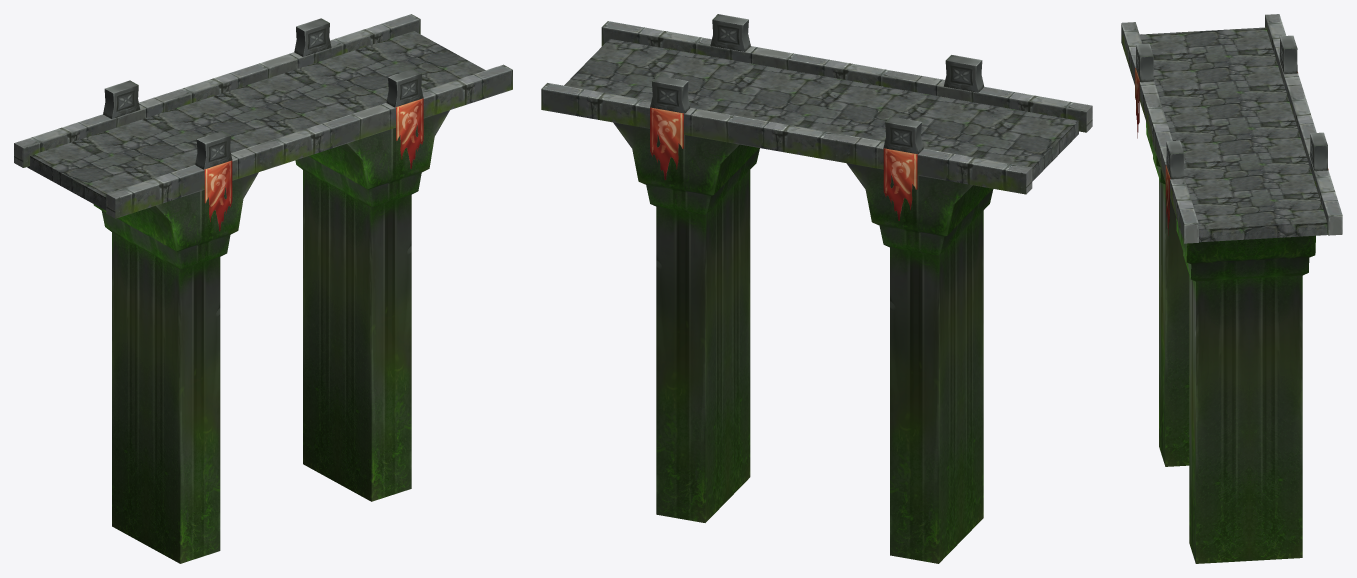
The model's file is SJBoss_Bridge_01.FBX.
The picture shows the model from 3 angles, left to right: view 1: azimuth 30°, elevation 25°; view 2: azimuth 150°, elevation 25°; view 3: azimuth 270°, elevation 25°; orthographic projection. The views are drawn at different scales.
Parts seen in each view (by area): view 1: SJBoss_Bridge_01_group3; view 2: SJBoss_Bridge_01_group3; view 3: SJBoss_Bridge_01_group3.
Boxes of the visible parts, x1,y1,x2,y2 form: SJBoss_Bridge_01_group3: [14, 14, 512, 563]; SJBoss_Bridge_01_group3: [541, 14, 1092, 563]; SJBoss_Bridge_01_group3: [1121, 14, 1342, 563].
Size of the model in its own units: 1254 by 1134 by 558.
